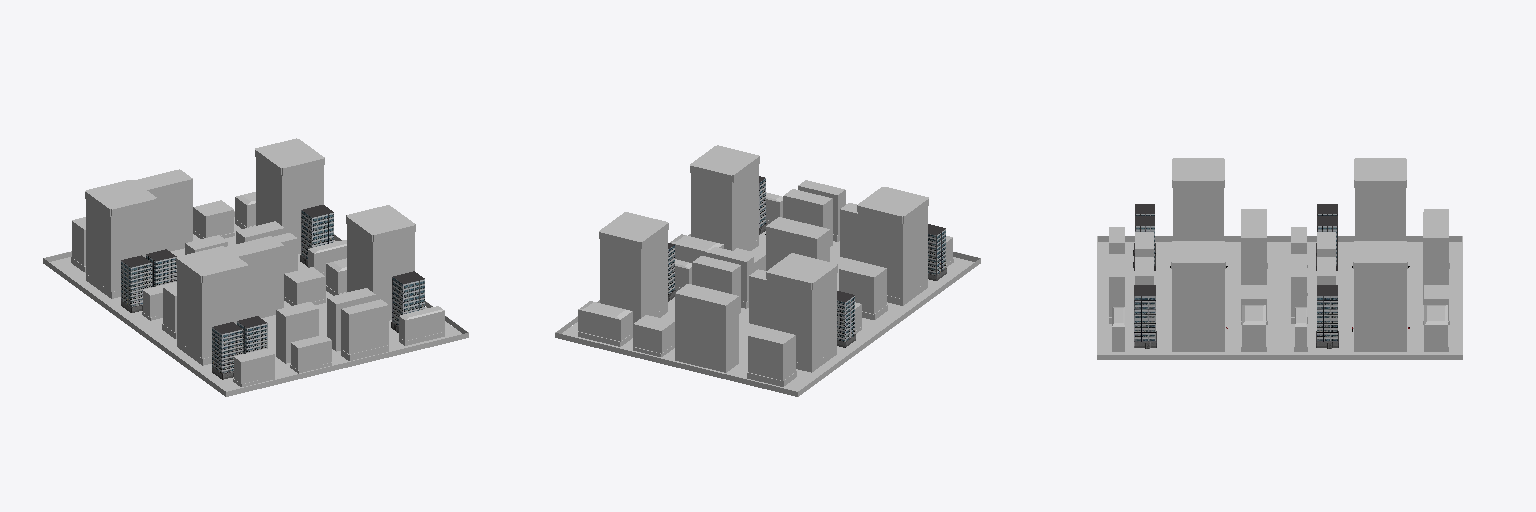
The picture shows the model from 3 angles: view 1: azimuth 30°, elevation 25°; view 2: azimuth 150°, elevation 25°; view 3: azimuth 270°, elevation 25°; orthographic projection.
Visible parts, largest first — view 1: Box087, Box087.001, Box072.001, Box072, Box086.001, Box086, Plane001, Box079, Box076, Plane001.001, Box075, Box067 (+19 smaller); view 2: Box087.001, Box087, Box072.001, Box072, Box086.001, Plane001.001, Box089.001, Box086, Box089, Box090.001, Plane001, Box077 (+10 smaller); view 3: Plane001.001, Plane001, Box072, Box072.001, Box087, Box087.001, Box086.001, Box086, Box085, Box085.001, Box090, Box090.001 (+10 smaller).
Part boxes in pixels (left/top/right/bottom): Box087: left=176, top=246, right=248, bottom=365; Box087.001: left=85, top=180, right=156, bottom=298; Box072.001: left=255, top=138, right=324, bottom=253; Box072: left=346, top=205, right=415, bottom=320; Box086.001: left=133, top=169, right=192, bottom=251; Box086: left=225, top=236, right=283, bottom=317; Plane001: left=141, top=291, right=461, bottom=391; Box079: left=341, top=299, right=388, bottom=360; Box076: left=276, top=302, right=318, bottom=363; Plane001.001: left=47, top=217, right=336, bottom=328; Box075: left=399, top=306, right=444, bottom=345; Box067: left=212, top=322, right=242, bottom=379; Box087.001: left=766, top=253, right=837, bottom=372; Box087: left=857, top=187, right=928, bottom=305; Box072.001: left=599, top=212, right=668, bottom=323; Box072: left=690, top=145, right=759, bottom=250; Box086.001: left=675, top=284, right=738, bottom=372; Plane001.001: left=562, top=297, right=882, bottom=391; Box089.001: left=747, top=326, right=796, bottom=386; Box086: left=766, top=217, right=829, bottom=270; Box089: left=839, top=260, right=887, bottom=319; Box090.001: left=578, top=301, right=632, bottom=346; Plane001: left=751, top=231, right=976, bottom=328; Box077: left=783, top=189, right=832, bottom=246; Plane001.001: left=1279, top=242, right=1461, bottom=354; Plane001: left=1098, top=242, right=1278, bottom=354; Box072: left=1171, top=241, right=1225, bottom=351; Box072.001: left=1353, top=241, right=1407, bottom=351; Box087: left=1172, top=158, right=1224, bottom=240; Box087.001: left=1354, top=158, right=1406, bottom=240; Box086.001: left=1423, top=212, right=1448, bottom=304; Box086: left=1241, top=212, right=1266, bottom=284; Box085: left=1134, top=285, right=1156, bottom=348; Box085.001: left=1316, top=285, right=1338, bottom=348; Box090: left=1241, top=305, right=1266, bottom=351; Box090.001: left=1424, top=305, right=1448, bottom=351.
Bounding box in the file's own units: 245 × 87.3 × 320.
Materials: 25 (2 with a texture image).